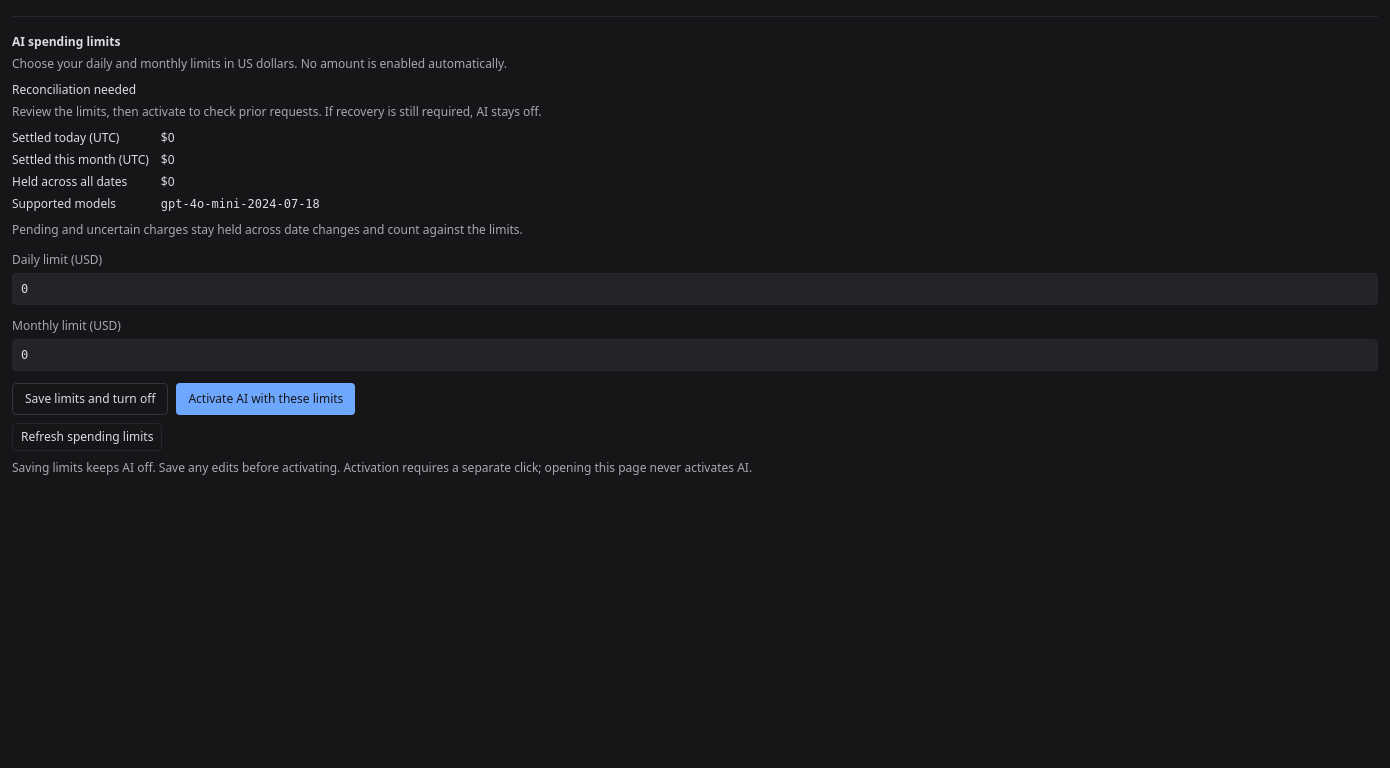
Test: AiBudgetSettings › allows explicit reconciliation activation but keeps OFF after an unresolved recovery error
Expected: the field labelled "Daily limit (USD)" is enabled, x1=12 y1=273 x2=1378 y2=305
Click the button "Activate AI with these limits".
click(266, 399)  # box x1=176 y1=383 x2=355 y2=415
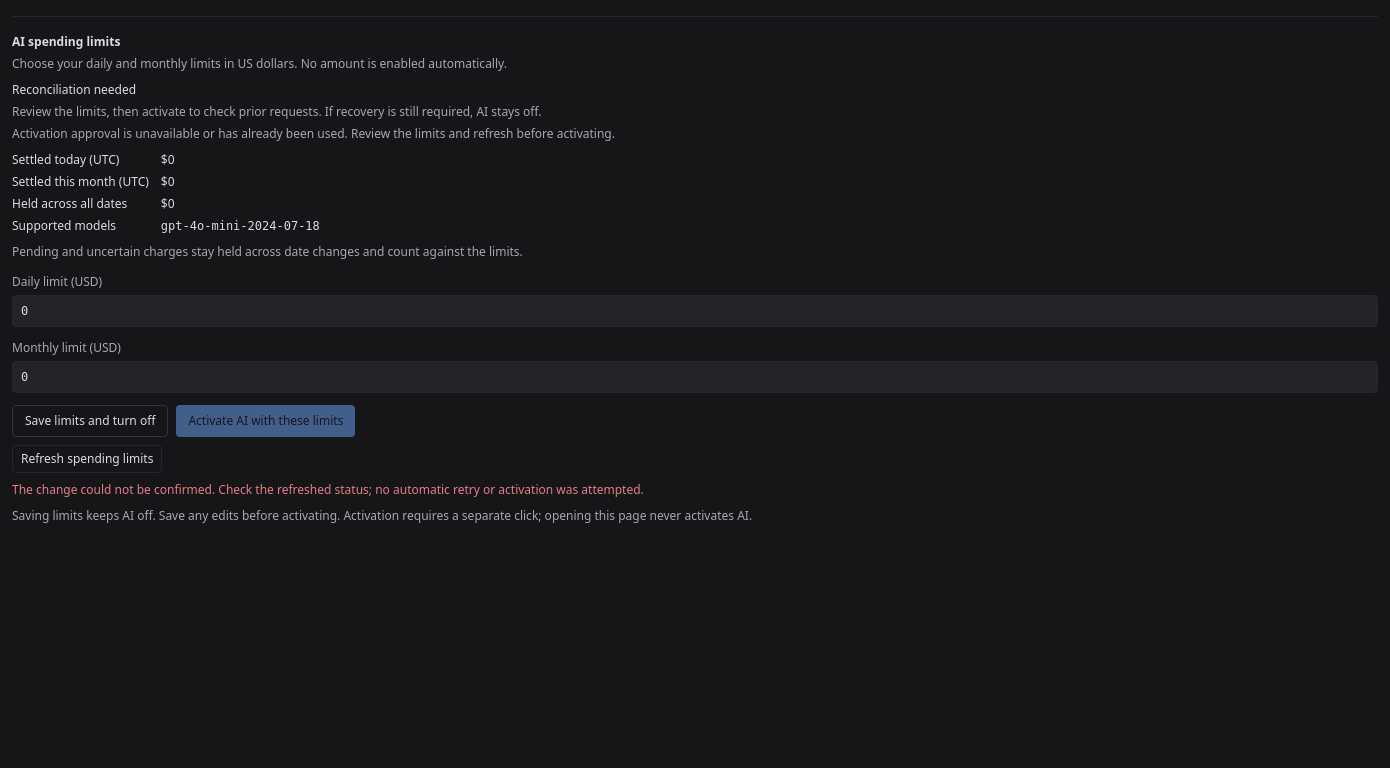
Expected: the text "Reconciliation needed" is shown, x1=12 y1=81 x2=136 y2=98
Now the 2nd message shows "The change could not be confirmed", box x1=12 y1=481 x2=644 y2=498
